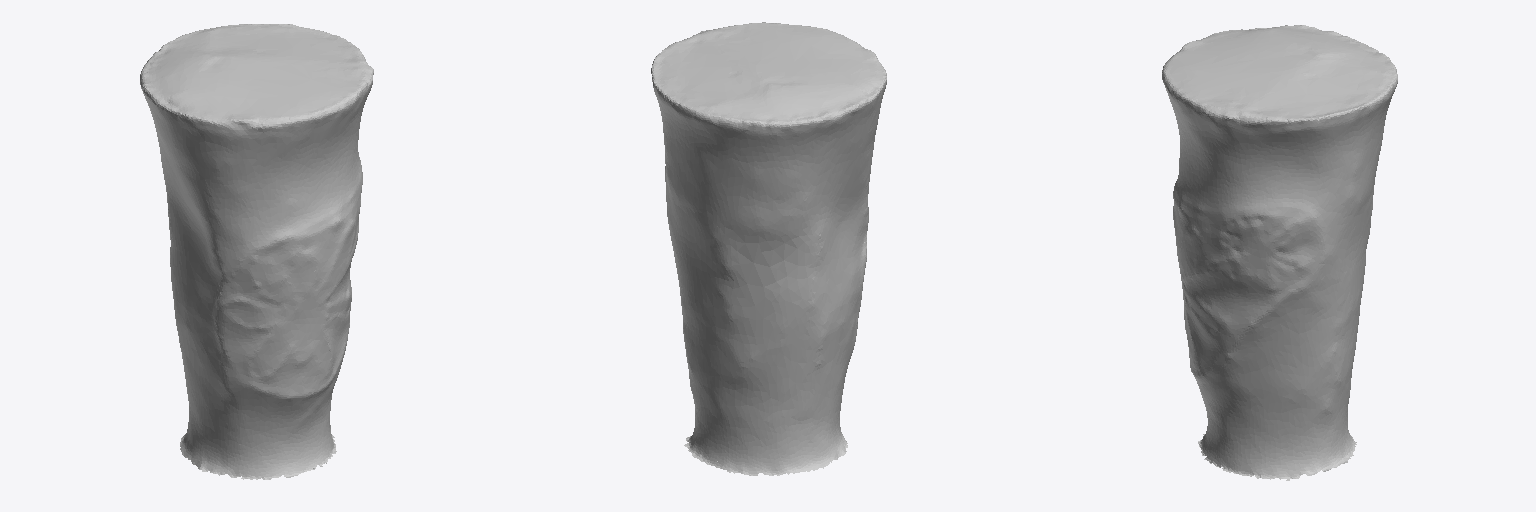
Rendered from red_cup_w_bottom.obj.
3 renders of one model, left to right at view 1: azimuth 30°, elevation 25°; view 2: azimuth 150°, elevation 25°; view 3: azimuth 270°, elevation 25°, orthographic.
Size of the model in its own units: 0.0903 by 0.1621 by 0.0913.